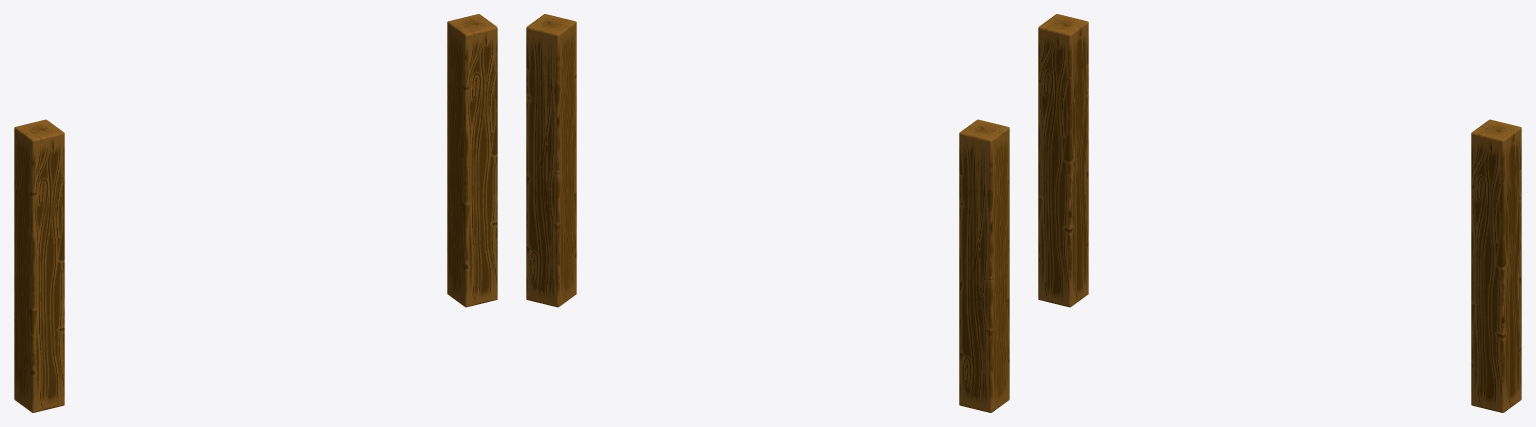
Rendered from Puente_Modul_04.fbx.
3 renders of one model, left to right at view 1: azimuth 30°, elevation 25°; view 2: azimuth 150°, elevation 25°; view 3: azimuth 330°, elevation 25°, orthographic.
Visible parts, largest first — view 1: P_M_madera_04_LOD0; view 2: P_M_madera_04_LOD0; view 3: P_M_madera_04_LOD0.
Part boxes in pixels (x1,y1,x2,y2): P_M_madera_04_LOD0: (14, 14, 497, 412); P_M_madera_04_LOD0: (526, 14, 1009, 412); P_M_madera_04_LOD0: (1038, 14, 1521, 412).
Size of what is drawn, in the model's own units: 143 by 80 by 10.08.
